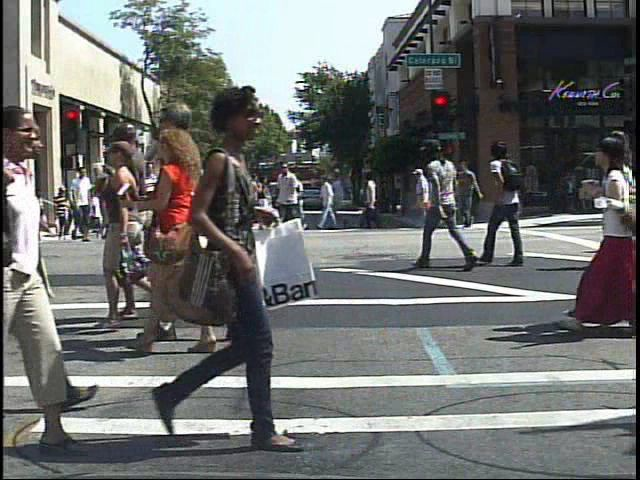person: (157, 77, 297, 458), (3, 95, 94, 460), (136, 120, 246, 359), (139, 96, 213, 349), (557, 119, 638, 346), (408, 129, 474, 272), (481, 135, 540, 274), (607, 126, 637, 341), (176, 153, 211, 248), (67, 163, 97, 246), (133, 160, 163, 240), (119, 162, 148, 243), (53, 183, 73, 241), (415, 165, 436, 217), (85, 182, 106, 224)
